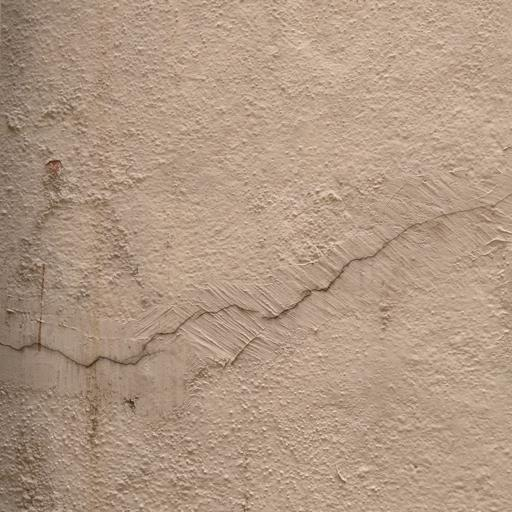minor_crack: (0, 197, 512, 372)
